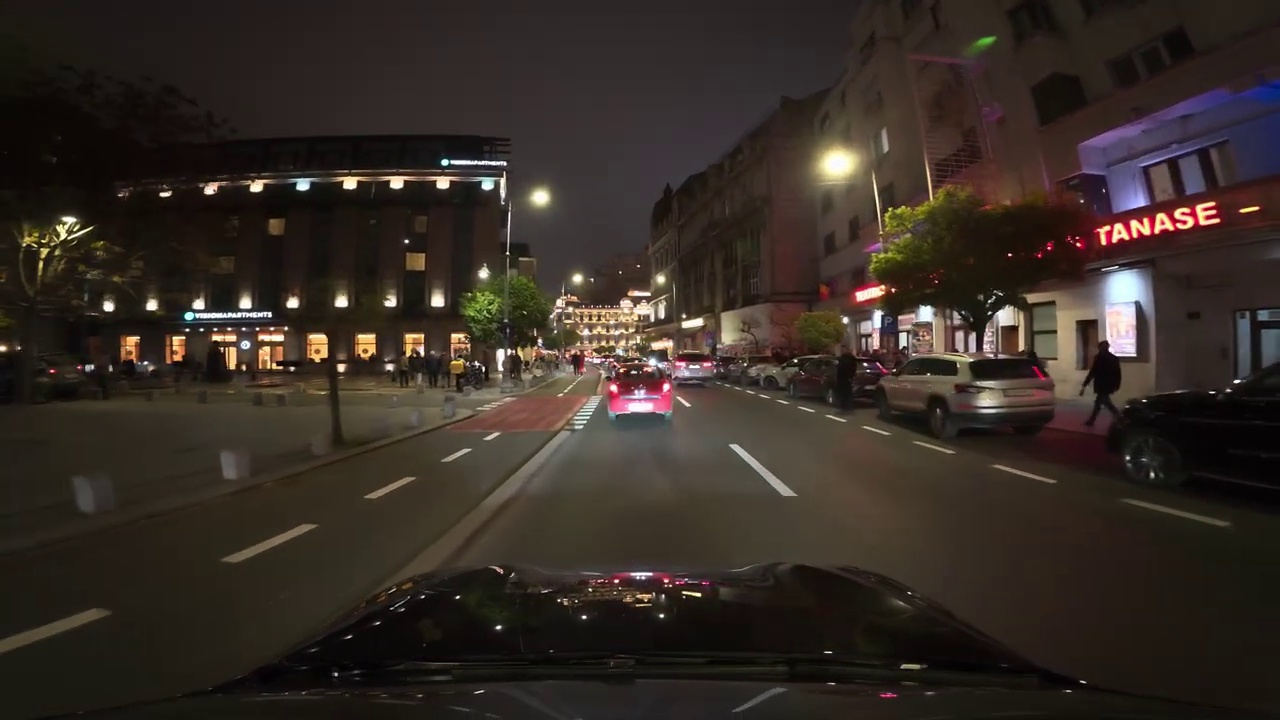acesa: (819, 149, 856, 181), (526, 185, 553, 211), (568, 268, 589, 288)
